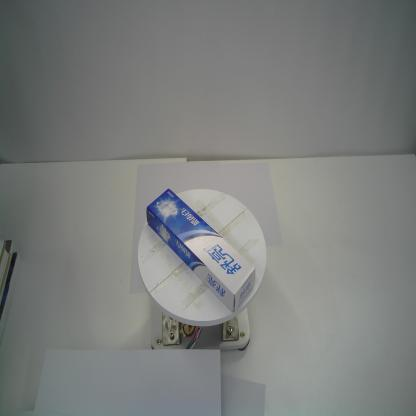Personal Hygiene: (145, 189, 258, 316)
